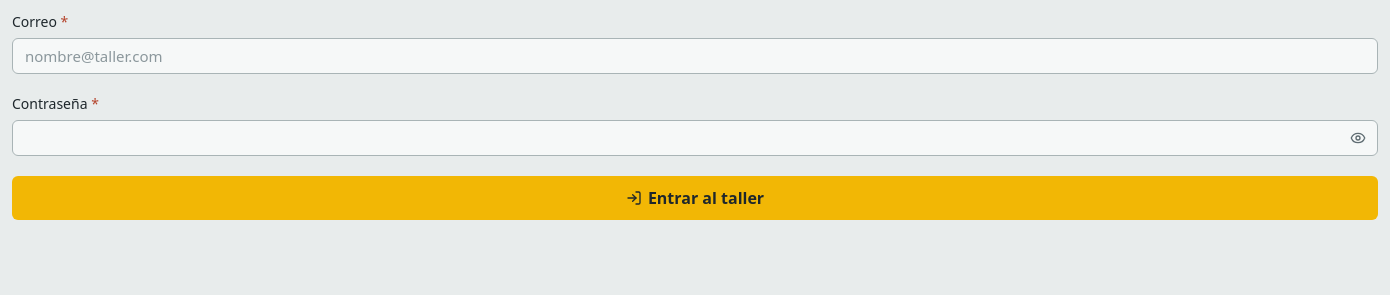
Test: LoginForm › announces a server error
The width and height of the screenshot is (1390, 295).
In the field labelled "Correo *": (695,56) [12, 38, 1378, 74], type "ana@taller.com"
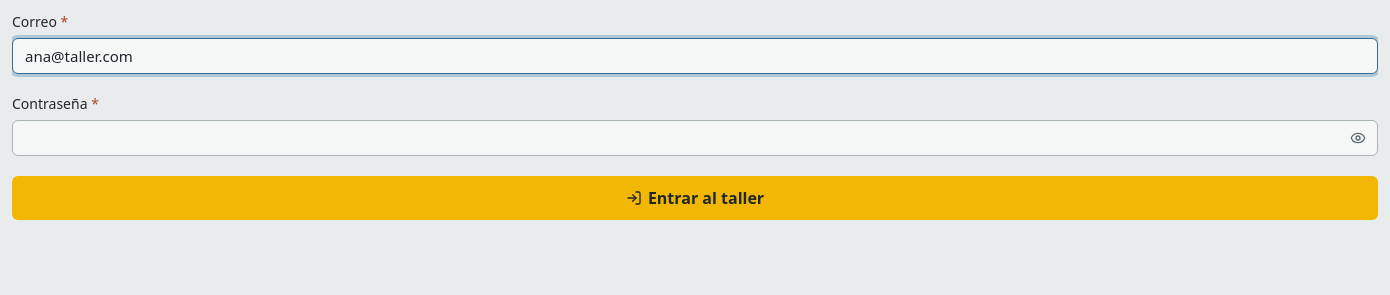
In the password field labelled "Contraseña *": (695,138) [12, 120, 1378, 156], type "equivocada"
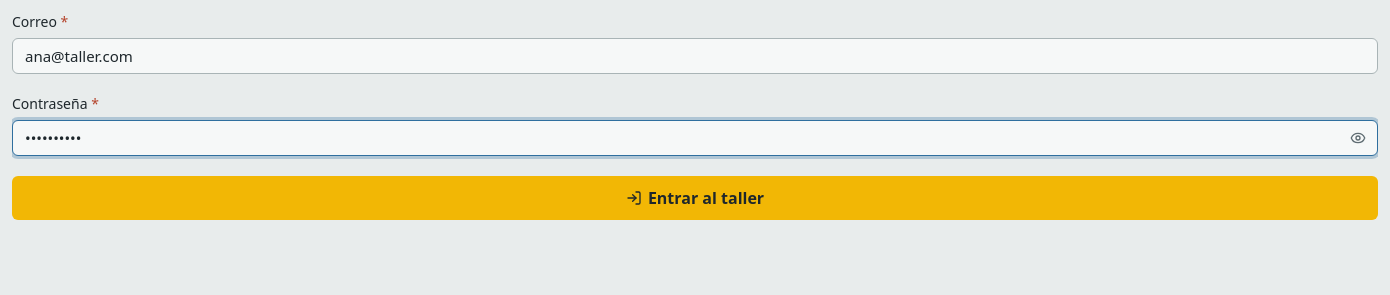
Click the button "Entrar al taller": (695,198) [12, 176, 1378, 220]
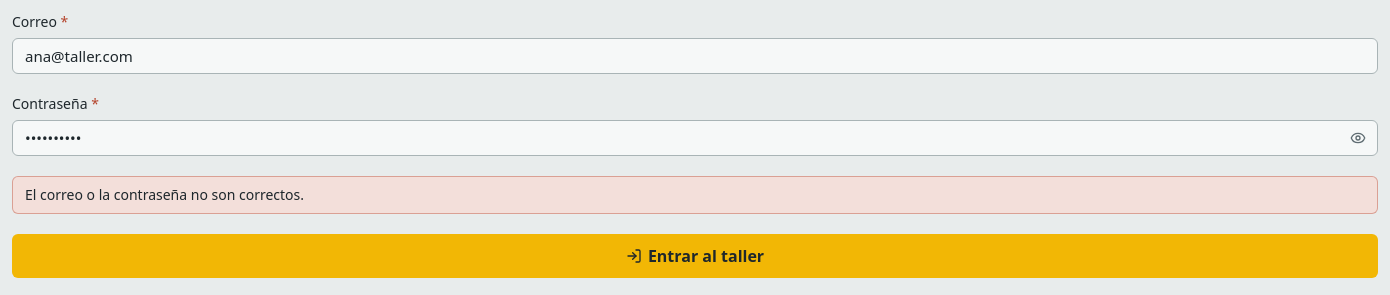
Now the message reads "El correo o la contraseña no son correctos.", box [25, 185, 304, 204]
